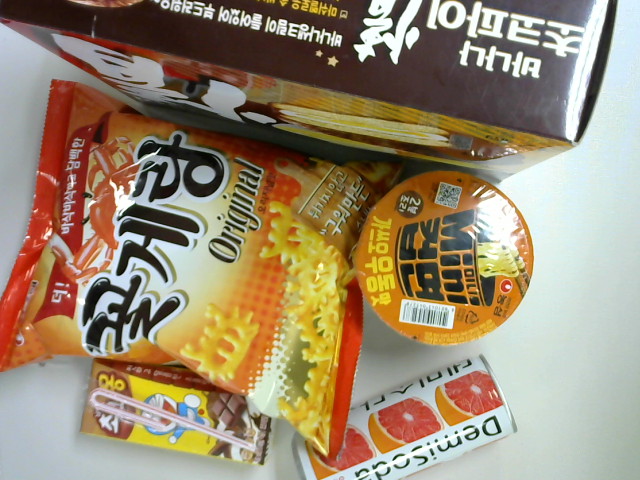Choco_E_Mong: (77, 357, 275, 470)
Choco_Pie_Banana: (1, 1, 618, 183)
Crabrang: (1, 79, 409, 460)
Demisoda_Grapefruit_Can_250ml: (289, 355, 521, 479)
Udongmini: (356, 171, 534, 345)
